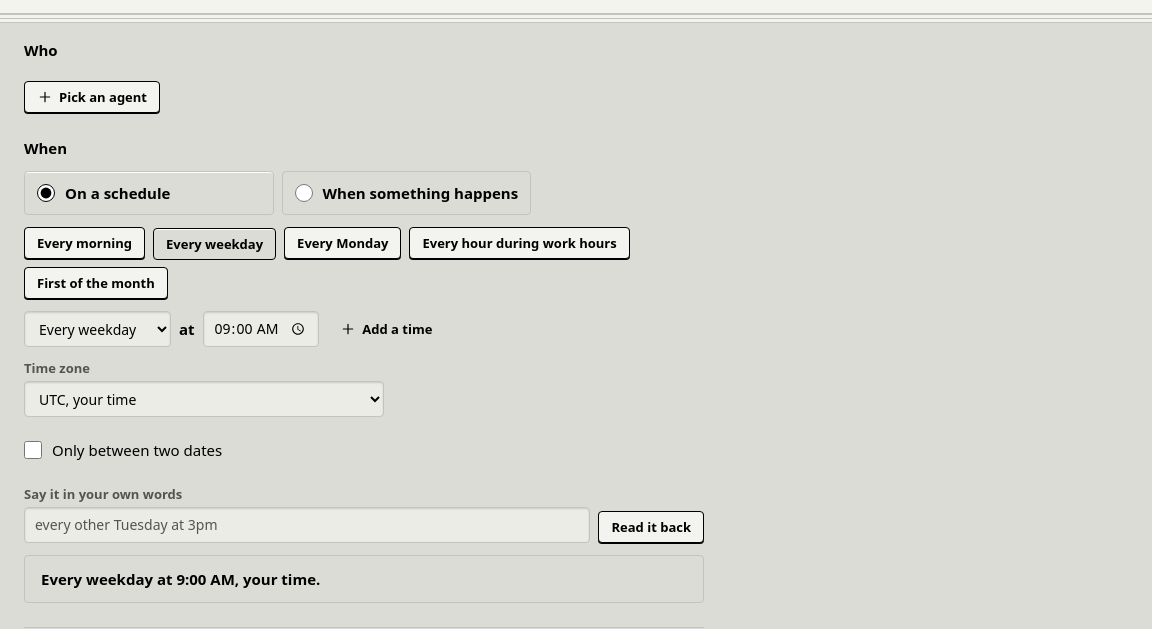
it: Check first › says that the agent took longer than two minutes on a 504
Click the button "Pick an agent" at (92, 97), box top-left (24, 81), bottom-right (160, 113)
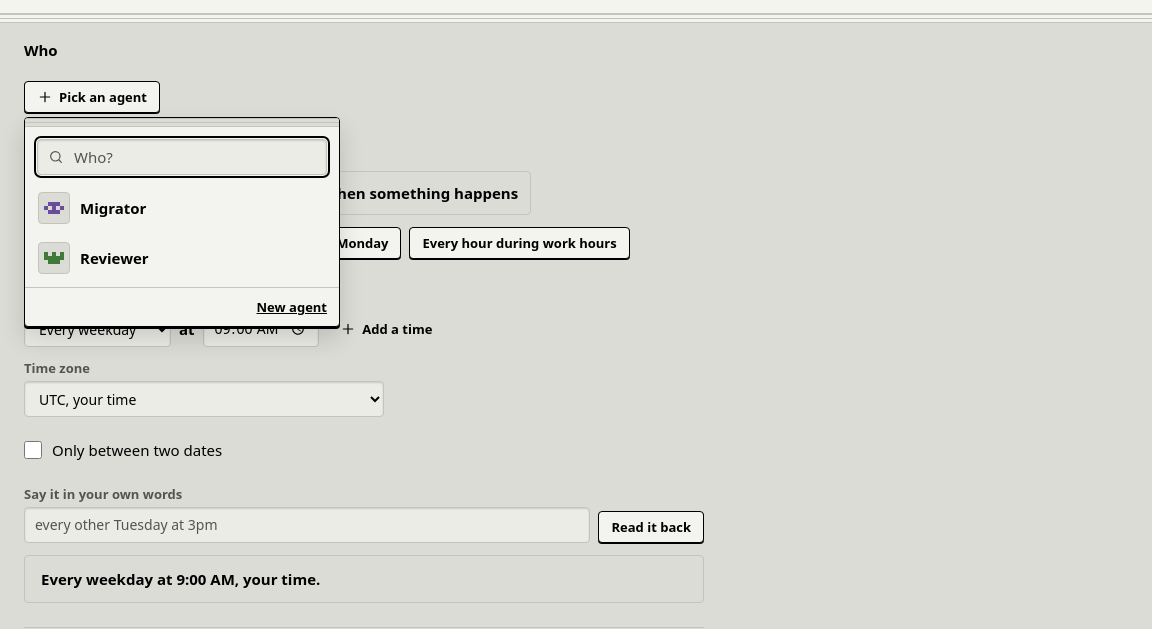
Click the button "Migrator" at (54, 208), box top-left (29, 183), bottom-right (335, 233)
(page scrolled)
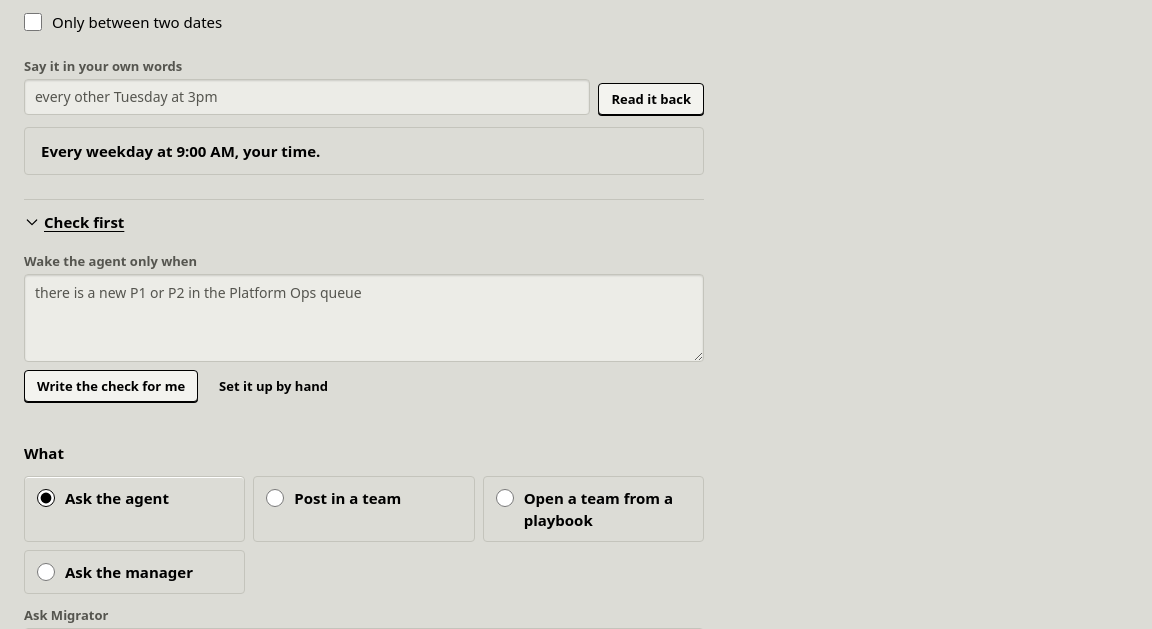
Type "a new P1" into the text box labelled "Wake the agent only when" at (364, 318), box top-left (24, 274), bottom-right (704, 362)
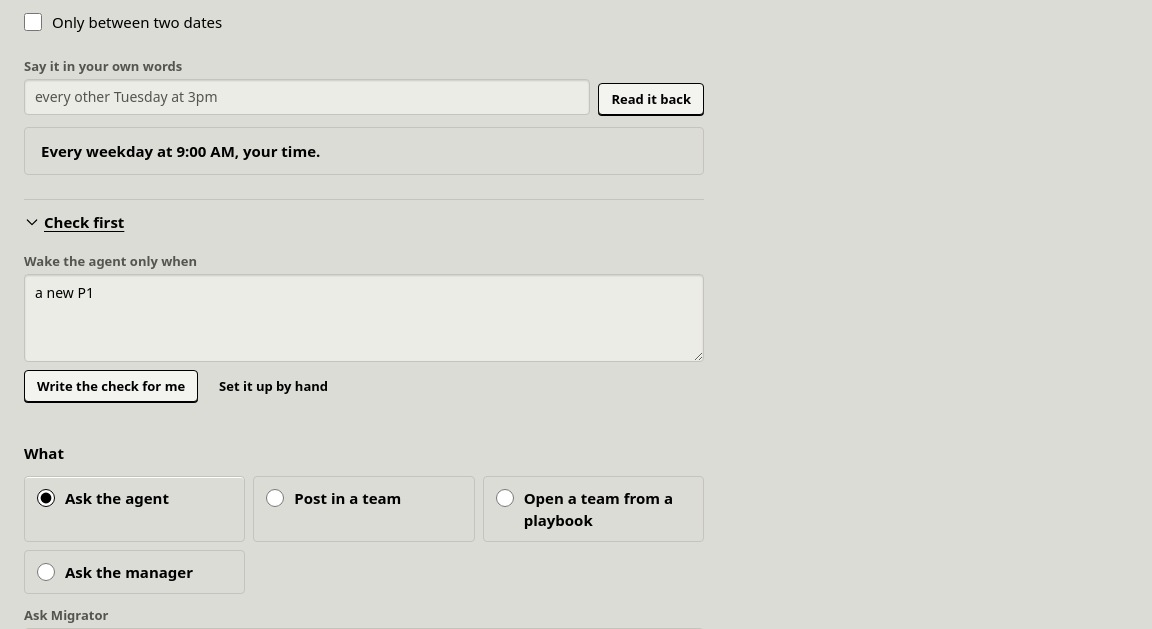
Click the button "Write the check for me" at (111, 386), box top-left (24, 370), bottom-right (198, 402)
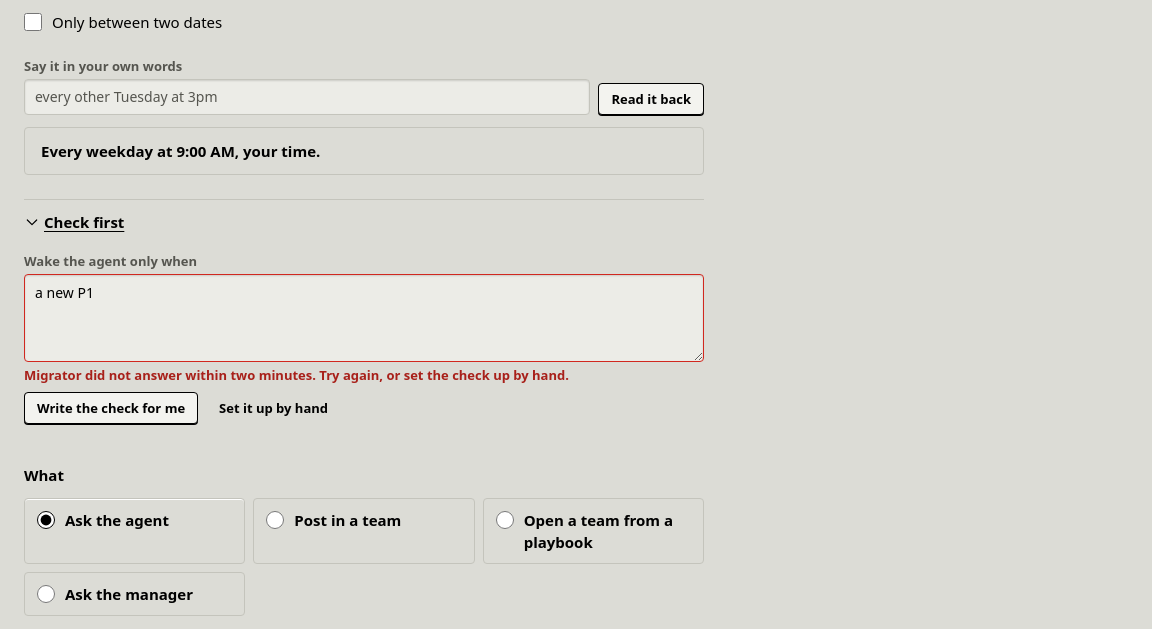
Expected: the message with class "field-error" shows "Migrator did not answer within two minutes. Try again, or set the check up by hand.", top-left (24, 366), bottom-right (569, 384)
